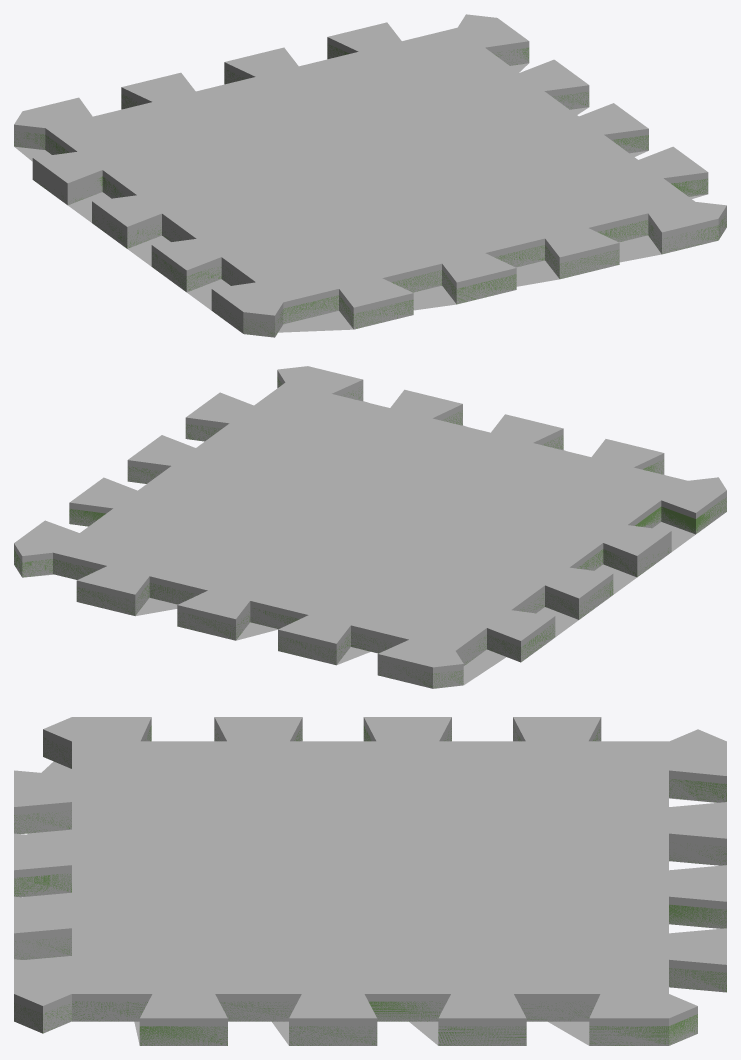
The model's file is PuzzleCarpets_01_02.fbx.
3 renders of one model, top to bottom at view 1: azimuth 30°, elevation 25°; view 2: azimuth 150°, elevation 25°; view 3: azimuth 270°, elevation 25°, orthographic. The views are drawn at different scales.
Parts seen in each view (by area): view 1: PuzzleCarpet_02, PuzzleCarpet_01; view 2: PuzzleCarpet_02, PuzzleCarpet_01; view 3: PuzzleCarpet_02, PuzzleCarpet_01.
Part boxes in pixels (x1=…): PuzzleCarpet_02: x1=14, y1=14, x2=726, y2=337; PuzzleCarpet_01: x1=14, y1=43, x2=726, y2=336; PuzzleCarpet_02: x1=14, y1=366, x2=726, y2=688; PuzzleCarpet_01: x1=14, y1=377, x2=726, y2=687; PuzzleCarpet_02: x1=14, y1=717, x2=726, y2=1045; PuzzleCarpet_01: x1=14, y1=725, x2=726, y2=1045.
Size of the model in its own units: 0.5446 by 0.0233 by 0.5446.
